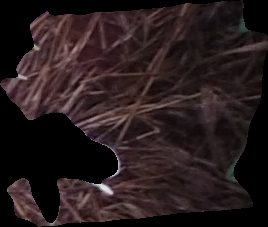soil: (2, 3, 267, 227)
